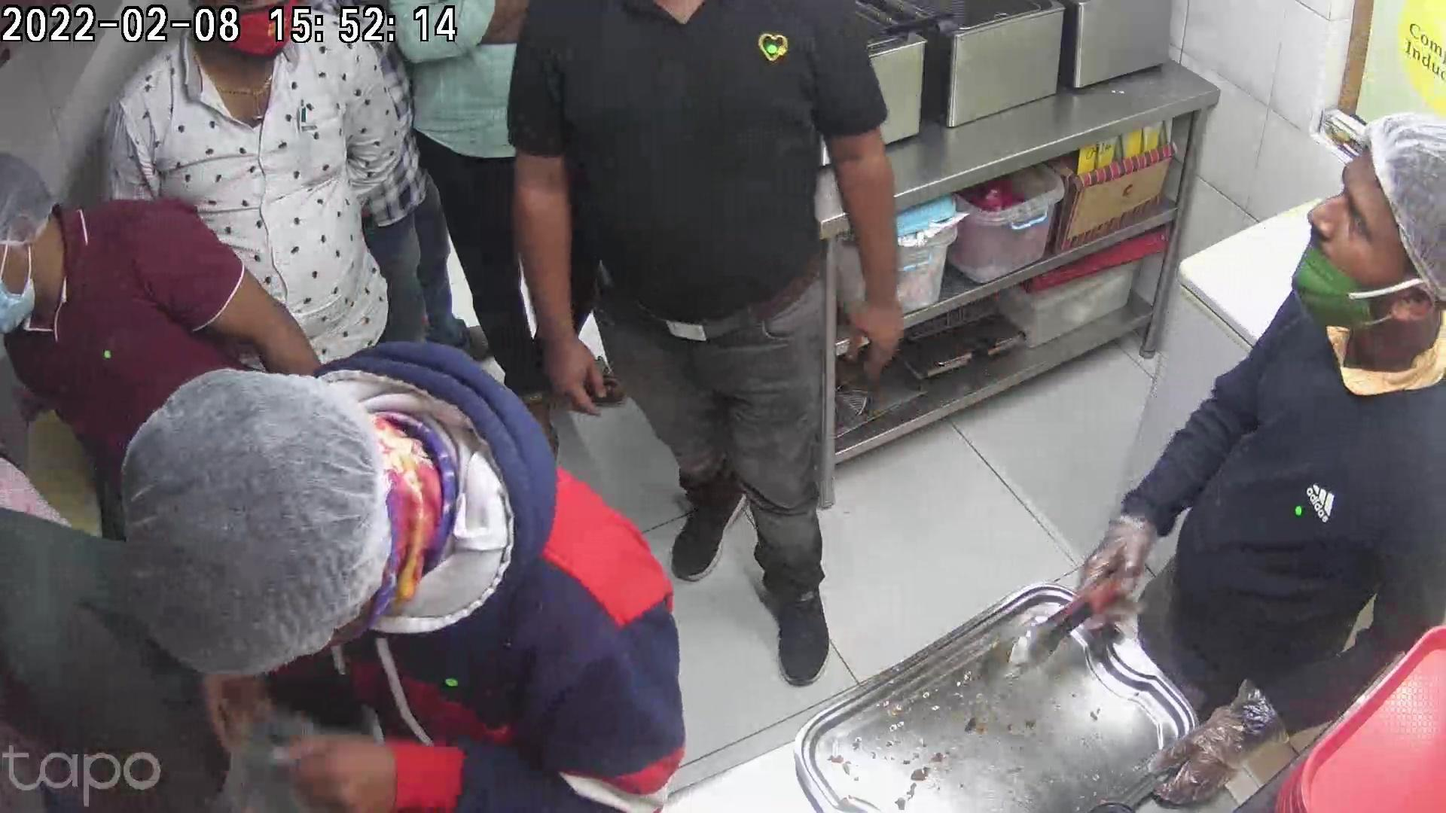no_gloves: (537, 302, 607, 413)
